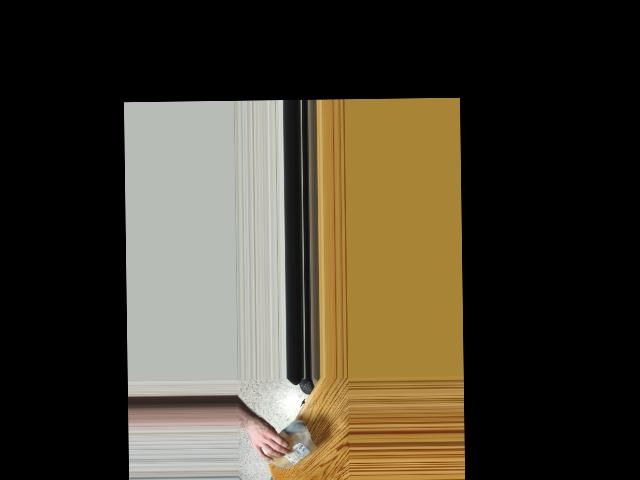cheese: (258, 426, 318, 472)
